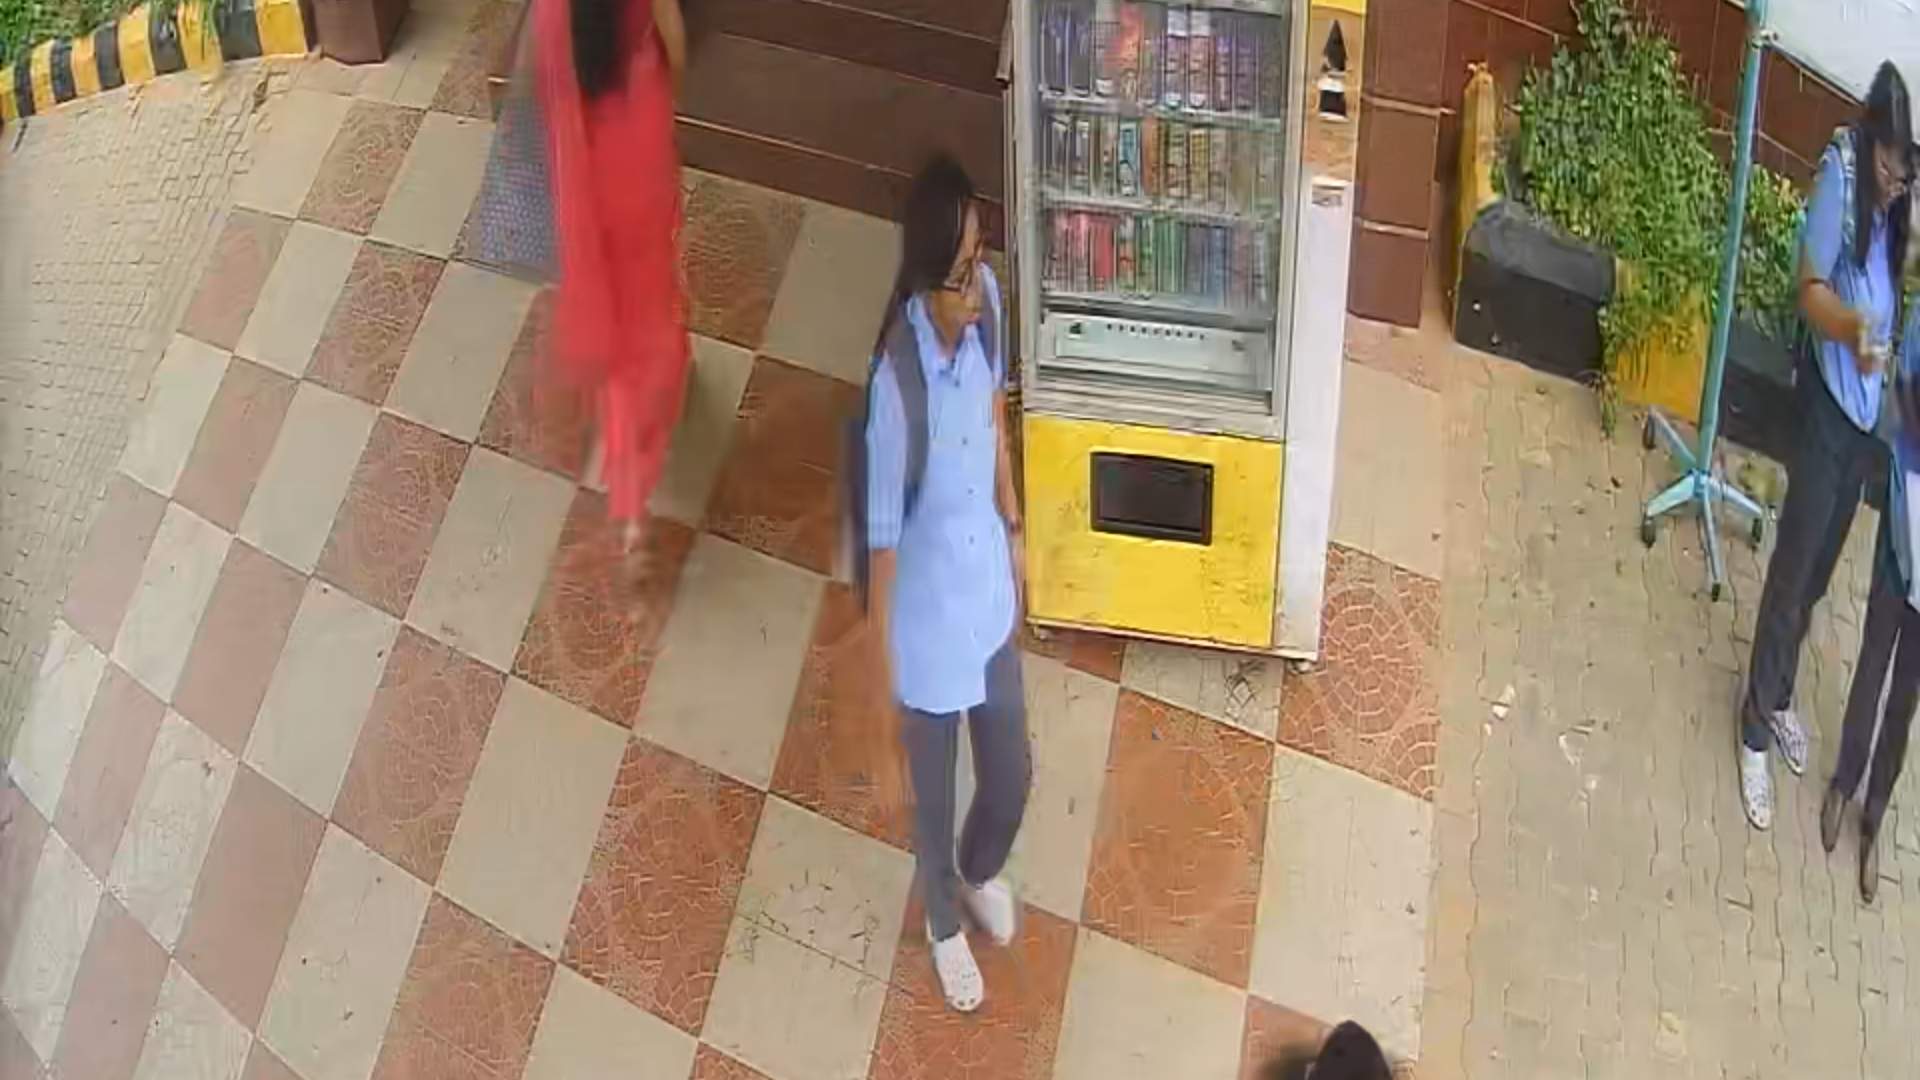intruder: (811, 157, 1052, 1018)
